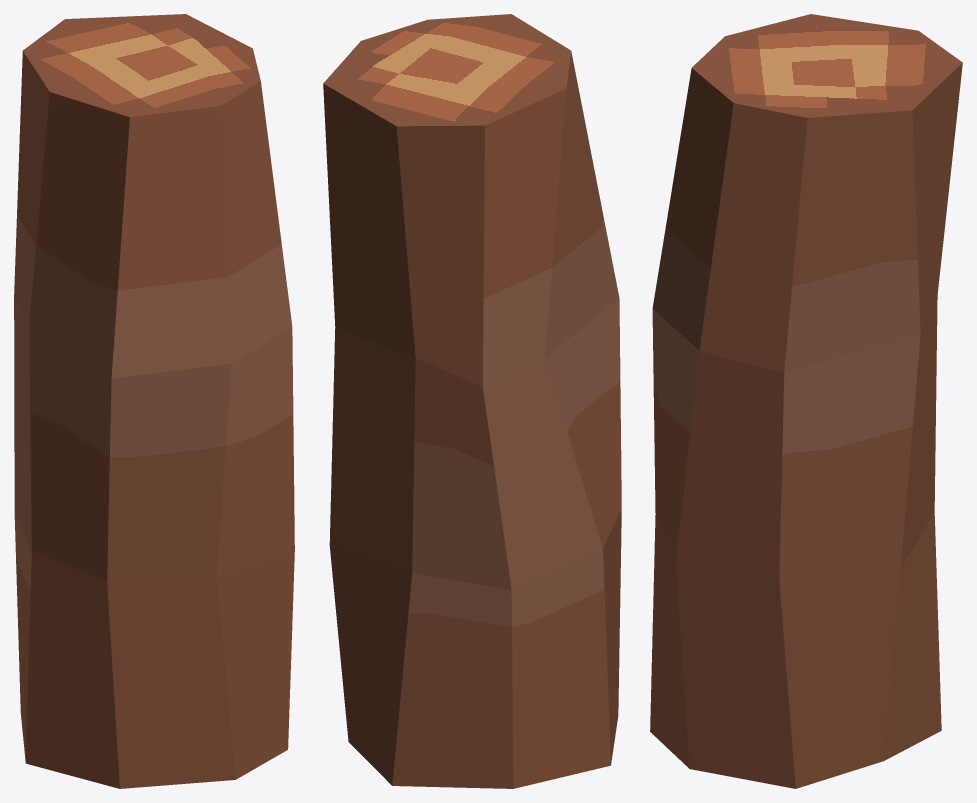
The model's file is log.obj.
3 views of the same model, side by side, from view 1: azimuth 30°, elevation 25°; view 2: azimuth 150°, elevation 25°; view 3: azimuth 270°, elevation 25° (orthographic). The views are drawn at different scales.
Visible parts, largest first — view 1: Cylinder; view 2: Cylinder; view 3: Cylinder.
Boxes of the visible parts, x1,y1,x2,y2 form: Cylinder: (14,14,294,788); Cylinder: (323,14,621,788); Cylinder: (650,14,962,788).
Bounding box in the file's own units: 0.8031 × 2.02 × 0.8551.
